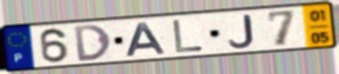6: (38, 27, 71, 65)
7: (266, 8, 298, 49)
A: (124, 21, 169, 58)
D: (72, 23, 114, 63)
J: (227, 13, 257, 49)
L: (170, 18, 206, 54)
